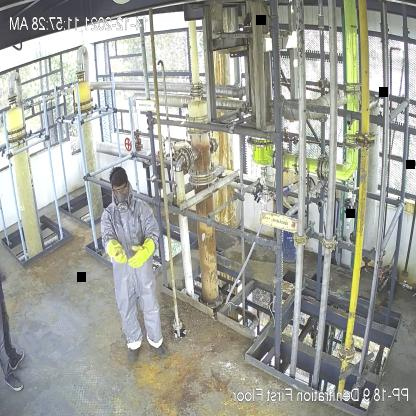goggles: (112, 184, 129, 194)
mask: (115, 191, 131, 213)
